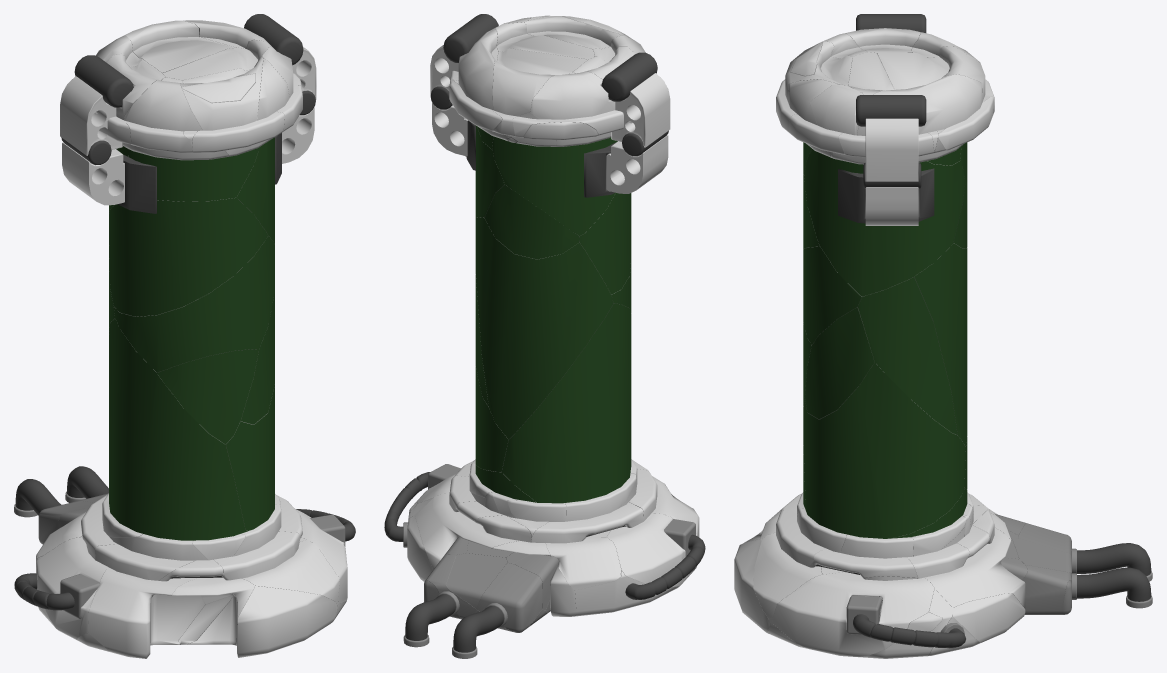
Rendered from sperm_capsule_broken.fbx.
3 views of the same model, side by side, from view 1: azimuth 30°, elevation 25°; view 2: azimuth 150°, elevation 25°; view 3: azimuth 270°, elevation 25° (orthographic). The views are drawn at different scales.
Visible parts, largest first — view 1: Sperm_Capsule.012_cell.016, Sperm_Capsule.012_cell.011, Sperm_Capsule.012_cell.013, Sperm_Capsule.016_cell.023, Sperm_Capsule.016_cell.022, Sperm_Capsule.012_cell.004, Sperm_Capsule.012_cell.012, Sperm_Capsule.012_cell.017, Sperm_Capsule.016_cell.016, Sperm_Capsule.018_cell.010, Sperm_Capsule.021, Sperm_Capsule.016_cell.017 (+42 smaller); view 2: Sperm_Capsule.012_cell.005, Sperm_Capsule.012_cell.016, Sperm_Capsule.012_cell.008, Sperm_Capsule.012_cell.001, Sperm_Capsule.018_cell.010, Sperm_Capsule.016_cell.016, Sperm_Capsule.012_cell.011, Sperm_Capsule.018_cell.006, Sperm_Capsule.016_cell.013, Sperm_Capsule.016_cell.005, Sperm_Capsule.006_cell.001, Sperm_Capsule.021 (+38 smaller); view 3: Sperm_Capsule.012_cell.012, Sperm_Capsule.012_cell.009, Sperm_Capsule.016_cell.018, Sperm_Capsule.012_cell.015, Sperm_Capsule.012_cell.005, Sperm_Capsule.012_cell, Sperm_Capsule.016_cell.013, Sperm_Capsule.025, Sperm_Capsule.012_cell.013, Sperm_Capsule.018_cell.007, Sperm_Capsule.018_cell.010, Sperm_Capsule.016_cell.017 (+30 smaller).
Boxes of the visible parts, box(x1,y1,x2,y2) form: Sperm_Capsule.012_cell.016: box(109, 318, 245, 540); Sperm_Capsule.012_cell.011: box(109, 197, 268, 316); Sperm_Capsule.012_cell.013: box(113, 236, 274, 372); Sperm_Capsule.016_cell.023: box(88, 567, 205, 658); Sperm_Capsule.016_cell.022: box(187, 586, 337, 657); Sperm_Capsule.012_cell.004: box(157, 349, 258, 444); Sperm_Capsule.012_cell.012: box(226, 385, 274, 530); Sperm_Capsule.012_cell.017: box(128, 147, 259, 201); Sperm_Capsule.016_cell.016: box(36, 537, 108, 639); Sperm_Capsule.018_cell.010: box(120, 20, 234, 72); Sperm_Capsule.021: box(60, 76, 122, 155); Sperm_Capsule.016_cell.017: box(242, 540, 339, 603); Sperm_Capsule.012_cell.005: box(475, 217, 613, 439); Sperm_Capsule.012_cell.016: box(502, 303, 631, 503); Sperm_Capsule.012_cell.008: box(492, 136, 617, 235); Sperm_Capsule.012_cell.001: box(484, 185, 579, 259); Sperm_Capsule.018_cell.010: box(492, 48, 587, 116); Sperm_Capsule.016_cell.016: box(606, 513, 697, 586); Sperm_Capsule.012_cell.011: box(575, 193, 631, 294); Sperm_Capsule.018_cell.006: box(530, 71, 615, 119); Sperm_Capsule.016_cell.013: box(415, 492, 519, 569); Sperm_Capsule.016_cell.005: box(546, 537, 621, 590); Sperm_Capsule.006_cell.001: box(476, 563, 542, 632); Sperm_Capsule.021: box(611, 73, 670, 147); Sperm_Capsule.012_cell.012: box(803, 362, 965, 538); Sperm_Capsule.012_cell.009: box(804, 149, 964, 296); Sperm_Capsule.016_cell.018: box(772, 572, 934, 656); Sperm_Capsule.012_cell.015: box(857, 277, 957, 434); Sperm_Capsule.012_cell.005: box(914, 243, 967, 446); Sperm_Capsule.012_cell: box(805, 307, 874, 419); Sperm_Capsule.016_cell.013: box(925, 527, 1025, 608); Sperm_Capsule.025: box(865, 118, 918, 181); Sperm_Capsule.012_cell.013: box(803, 246, 861, 344); Sperm_Capsule.018_cell.007: box(873, 74, 982, 134); Sperm_Capsule.018_cell.010: box(877, 46, 985, 101); Sperm_Capsule.016_cell.017: box(753, 532, 821, 618).
Bounding box in the file's own units: 4.45 × 7.49 × 5.25.
